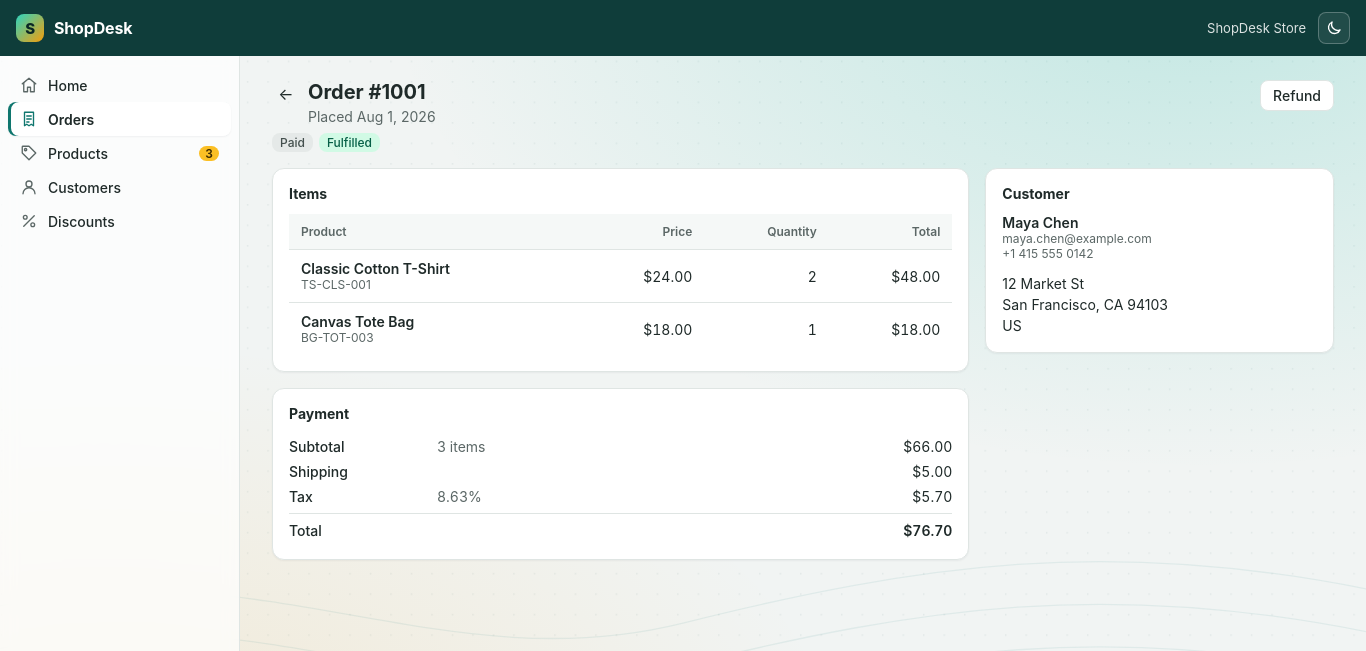
Test: refund form input › explains that quantities must be whole numbers
The width and height of the screenshot is (1366, 651).
Click the button "Refund": (1297, 96) [1260,80,1334,111]
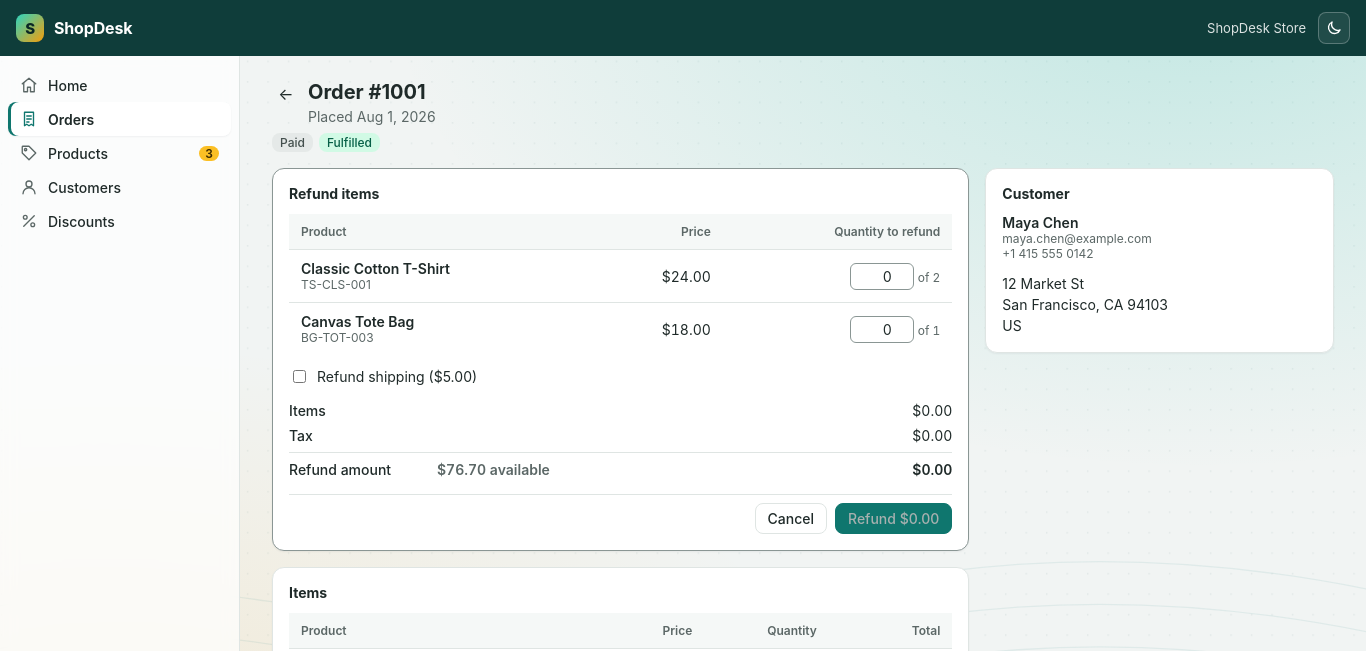
Replace the text in the number field named "Quantity of Classic Cotton T-Shirt to refund" with "1.5": (882, 276) [850,262,914,290]
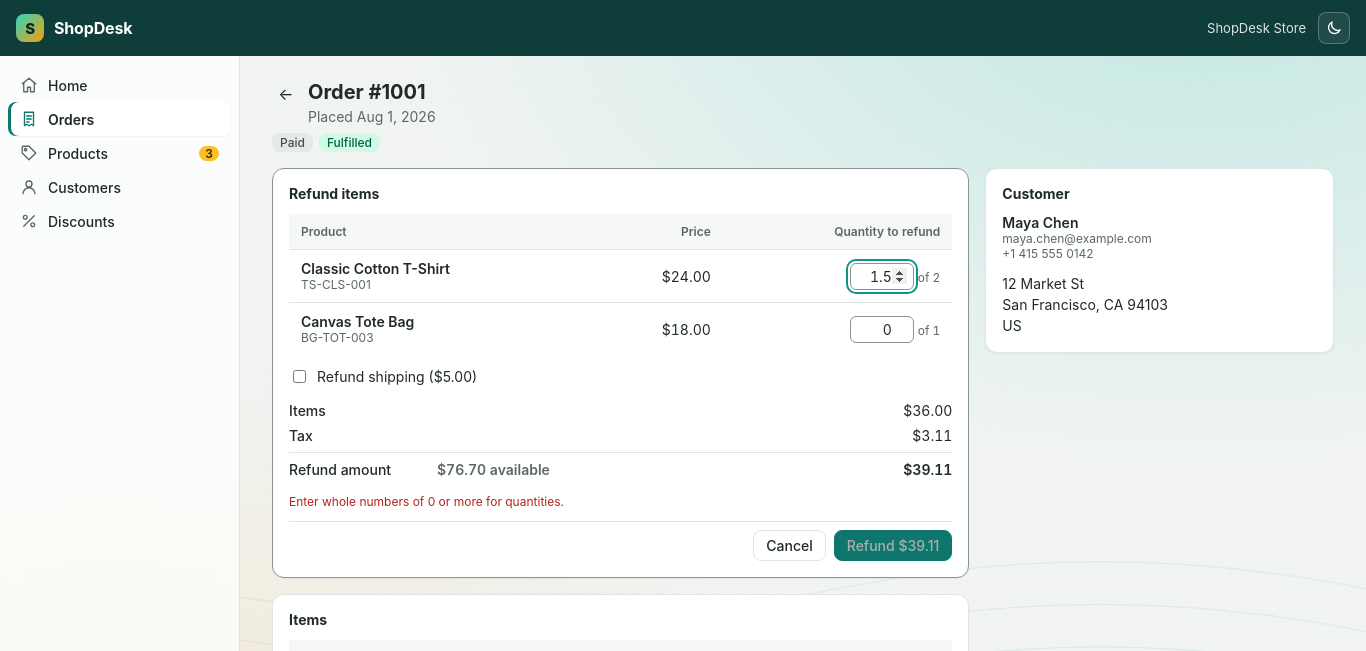
Now the button "Refund $39.11" is disabled, box [834,530,952,561]
Now the message reads "Enter whole numbers of 0 or more for quantities.", box [289,494,564,509]
